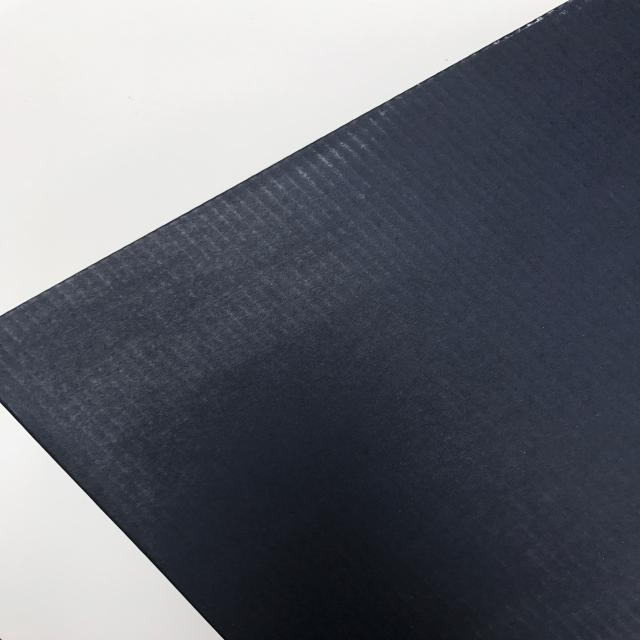cardboard: (1, 1, 639, 638)
